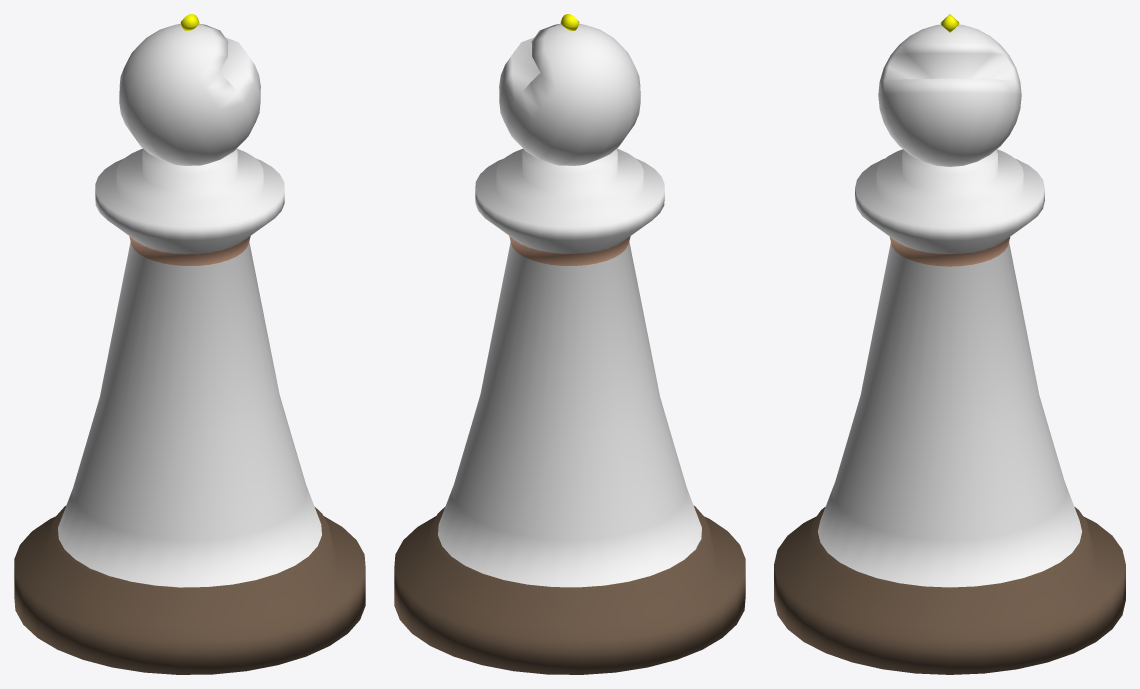
Rendered from Bishop.gltf.
3 views of the same model, side by side, from view 1: azimuth 30°, elevation 25°; view 2: azimuth 150°, elevation 25°; view 3: azimuth 270°, elevation 25° (orthographic).
Visible parts, largest first — view 1: ビショップ; view 2: ビショップ; view 3: ビショップ.
Boxes of the visible parts, left/top/right/bottom form: ビショップ: left=14, top=14, right=365, bottom=674; ビショップ: left=394, top=14, right=745, bottom=674; ビショップ: left=774, top=14, right=1125, bottom=674.
Size of the model in its own units: 0.8681 by 1.59 by 0.8681.
1 material, 1 textured.
